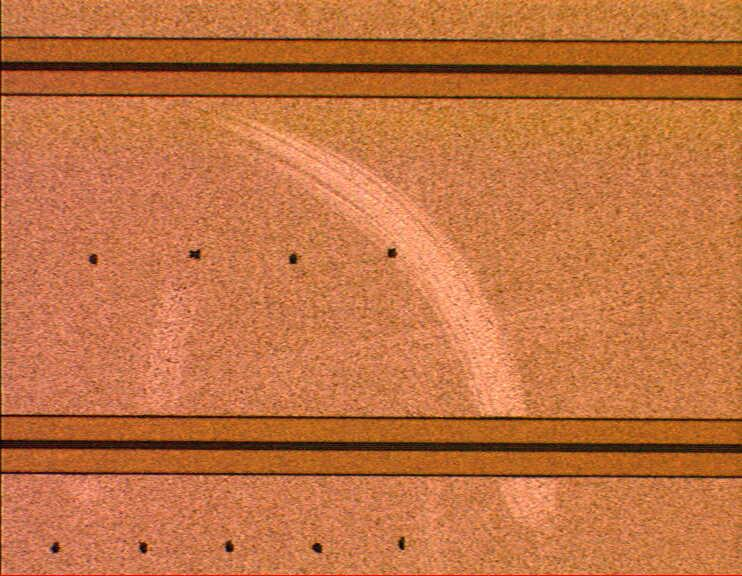SCRATCH: (127, 99, 674, 544)
